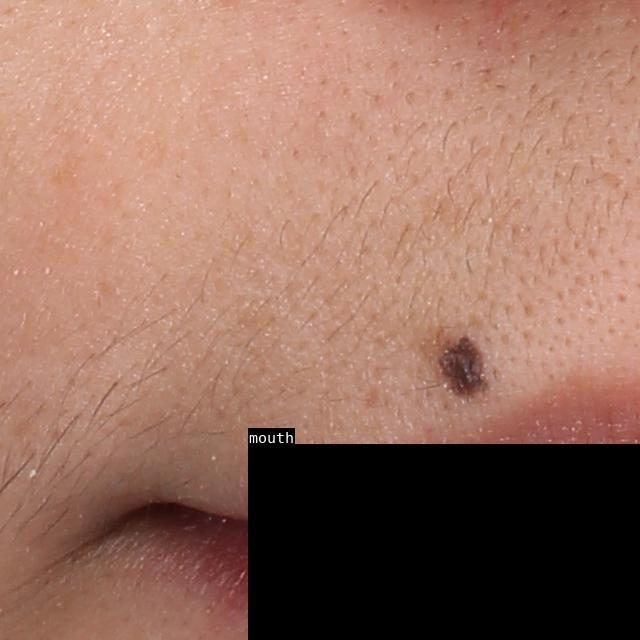nevus: (409, 324, 494, 404)
